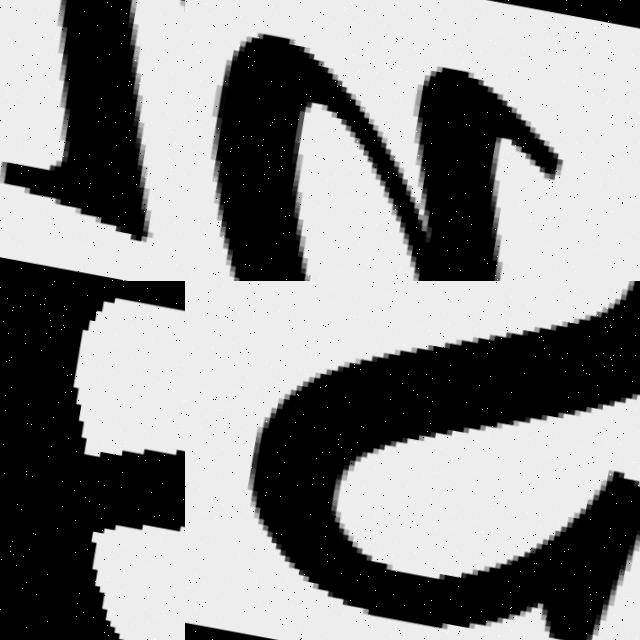D: (185, 17, 617, 281)
H: (0, 0, 151, 239)
S: (185, 281, 640, 640)
